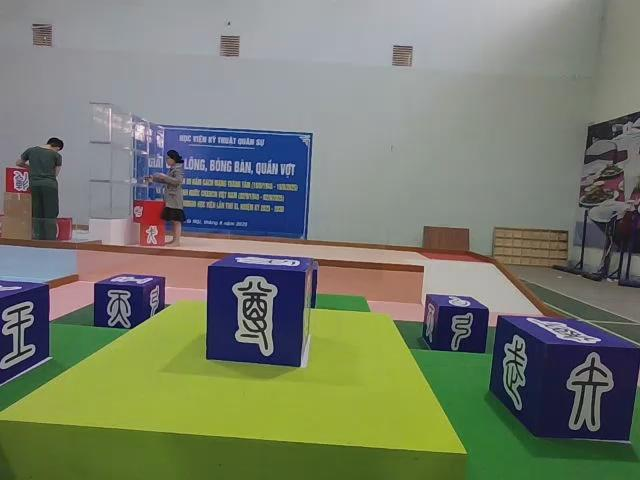R2 Fake Blue: (490, 318, 639, 445), (207, 255, 318, 372), (0, 281, 50, 392), (96, 276, 169, 332), (421, 294, 487, 355)
